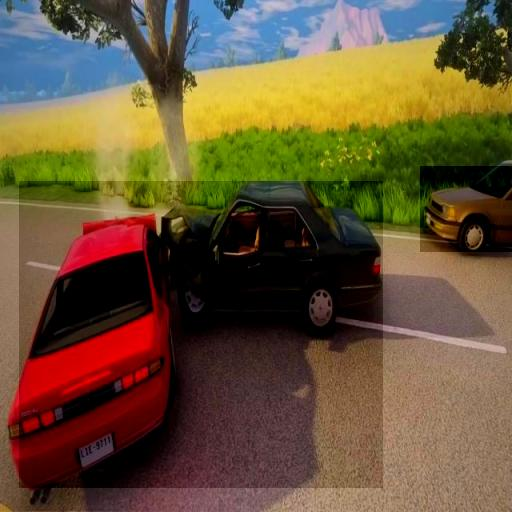小汽车: (420, 166, 512, 252)
小汽车撞小汽车: (19, 181, 383, 488)
